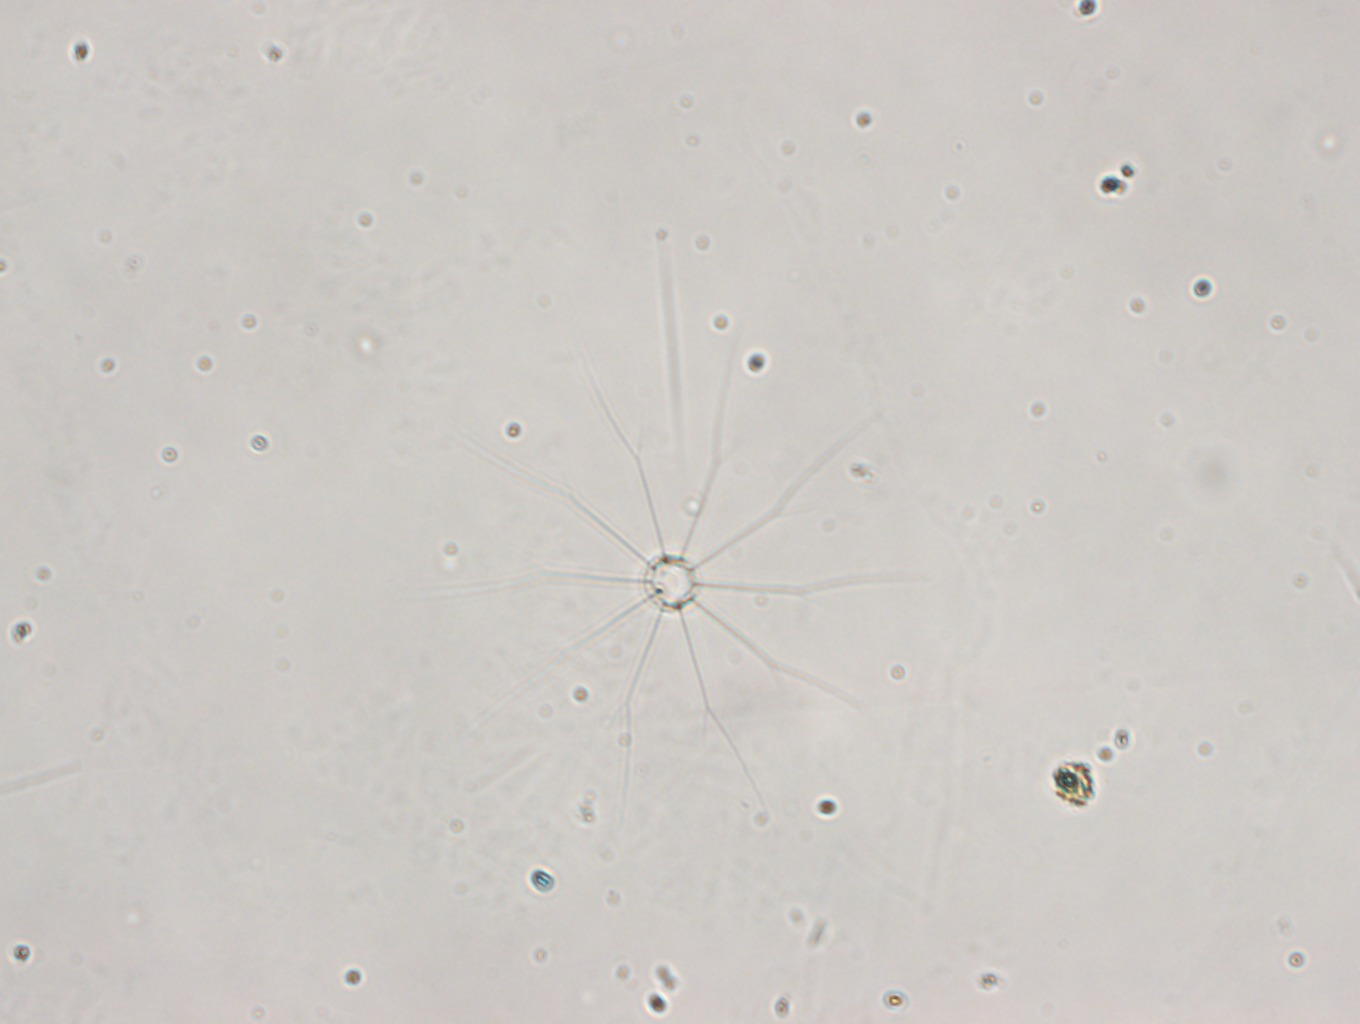bacteriastrum: (414, 322, 932, 830)
